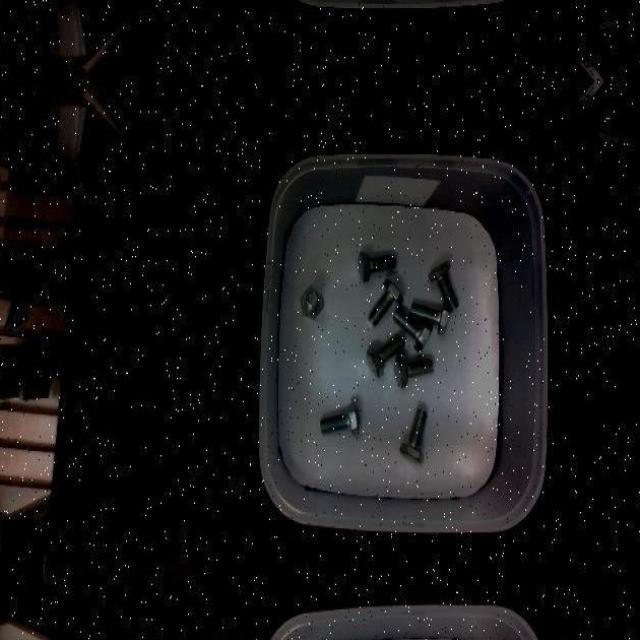screw: (393, 308, 433, 351), (368, 278, 403, 327), (398, 408, 427, 464), (366, 336, 404, 378), (428, 260, 459, 311), (409, 302, 450, 336), (320, 402, 360, 436), (394, 356, 434, 388), (359, 250, 396, 281), (300, 288, 323, 318)
